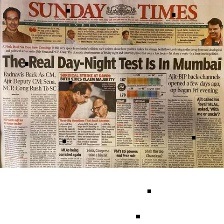news_paper: (0, 0, 224, 168)
